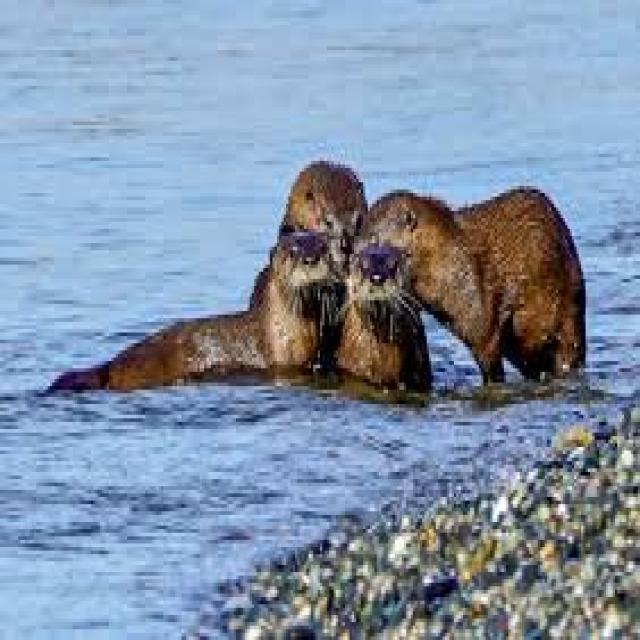Otter: (47, 226, 347, 383), (381, 173, 590, 398), (342, 226, 427, 400)
